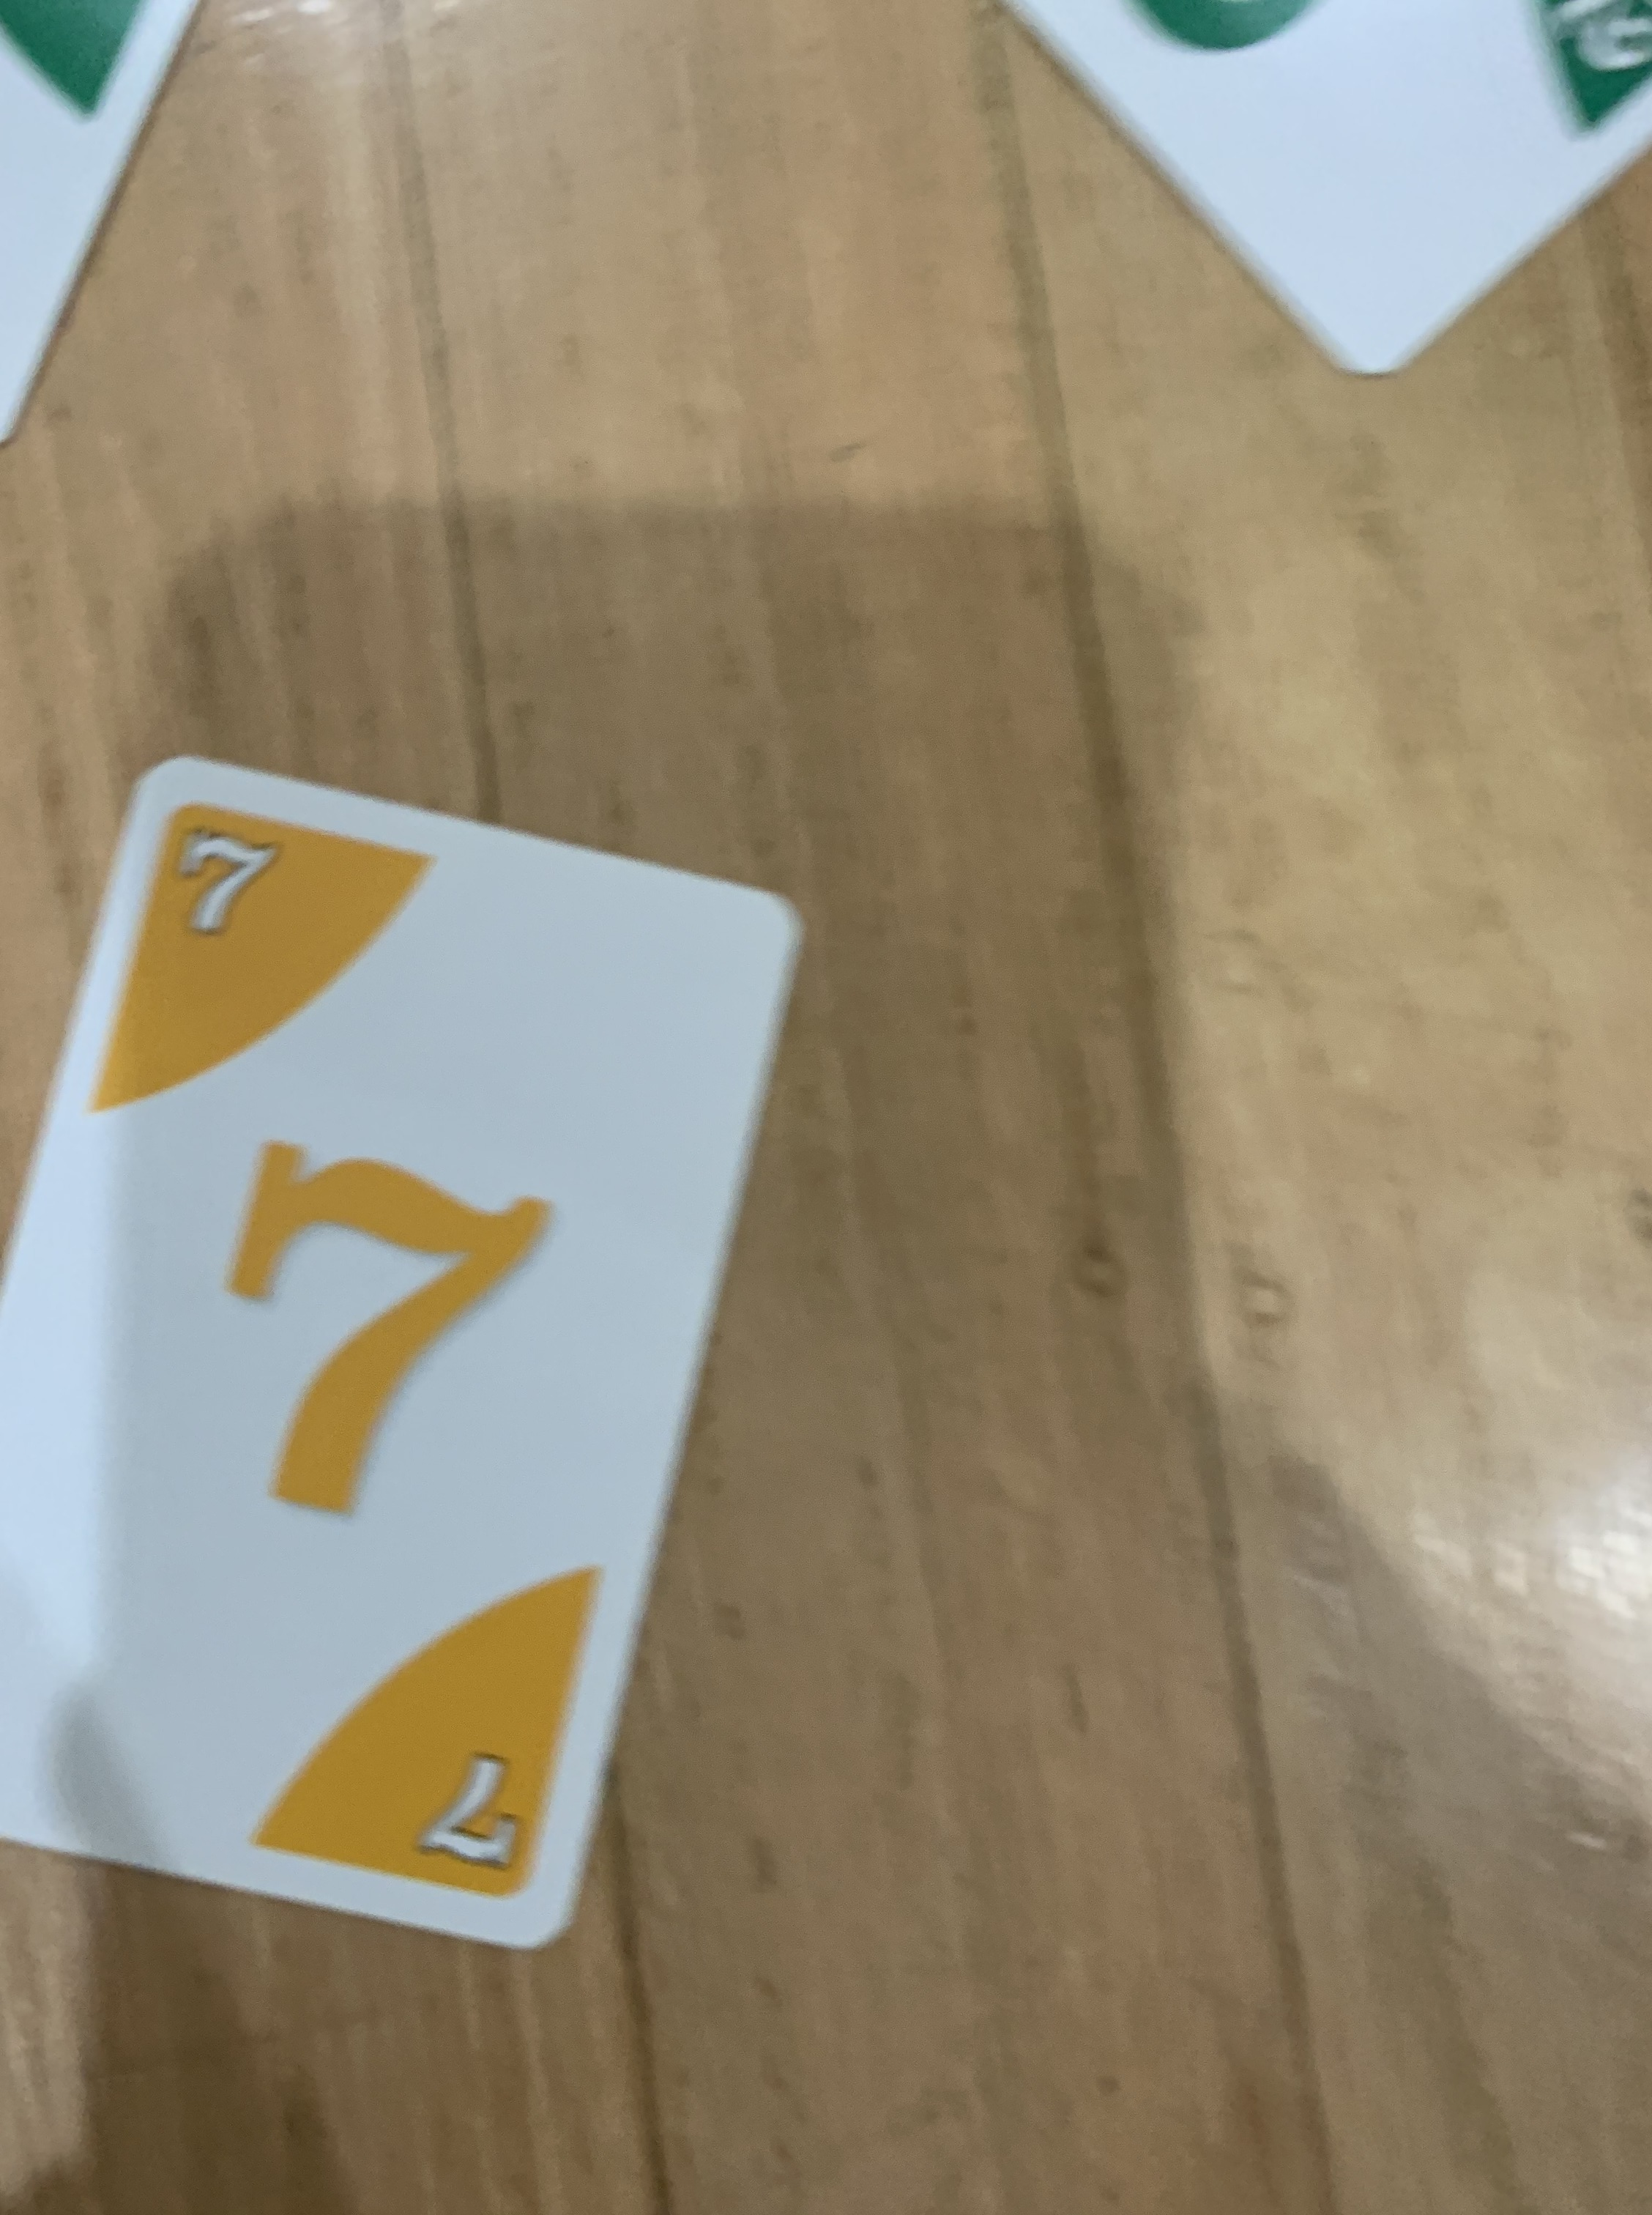seven: (5, 745, 816, 1963)
